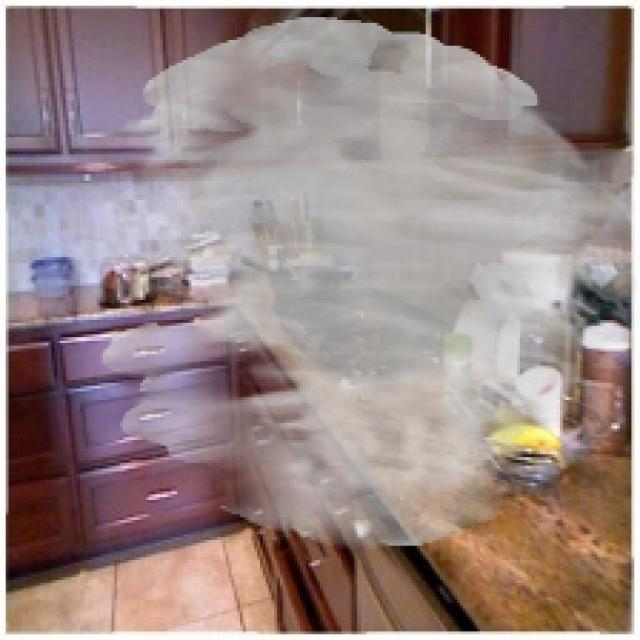smoke: (100, 17, 637, 549)
